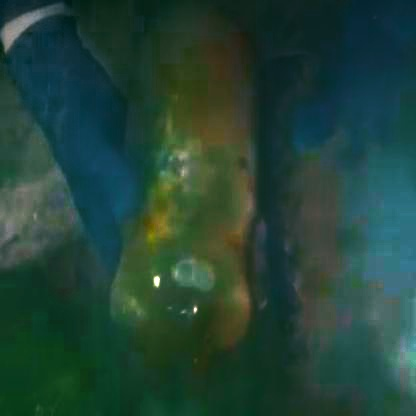gbottle: (124, 25, 282, 410)
